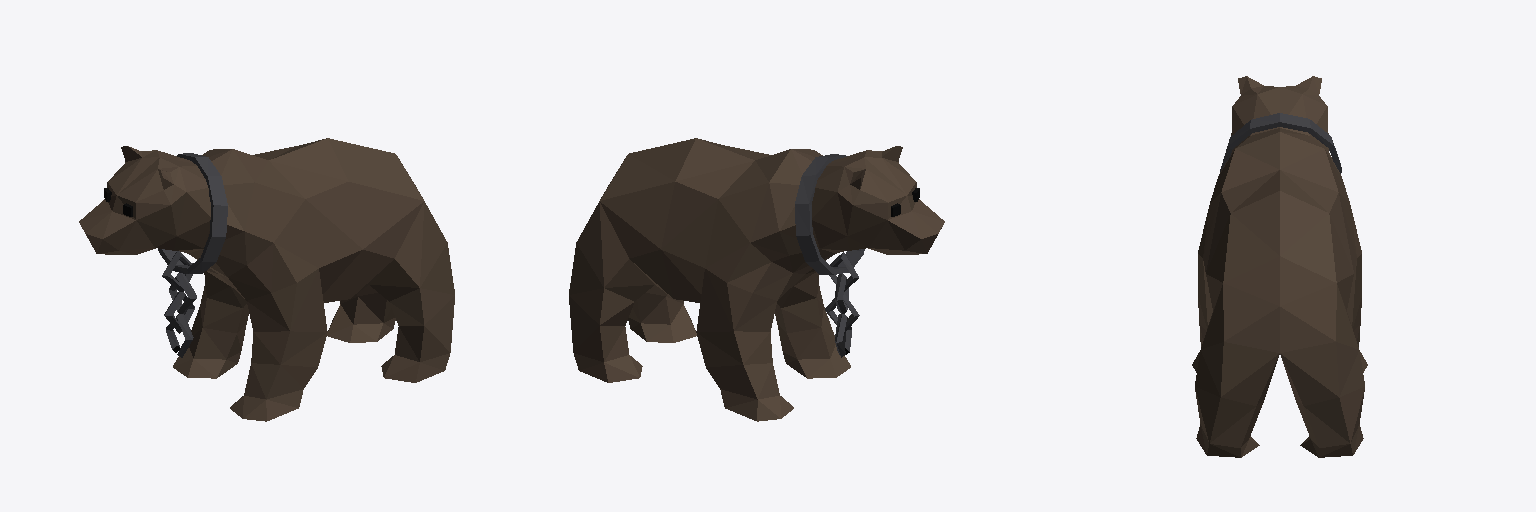
The picture shows the model from 3 angles: view 1: azimuth 30°, elevation 25°; view 2: azimuth 150°, elevation 25°; view 3: azimuth 270°, elevation 25°; orthographic projection.
Visible parts, largest first — view 1: Bear_Plane; view 2: Bear_Plane; view 3: Bear_Plane.
Boxes of the visible parts, x1,y1,x2,y2 form: Bear_Plane: [79, 138, 454, 421]; Bear_Plane: [569, 138, 944, 421]; Bear_Plane: [1192, 76, 1367, 457].
Size of the model in its own units: 3.07 by 2.16 by 1.38.
1 materials, 1 textured.